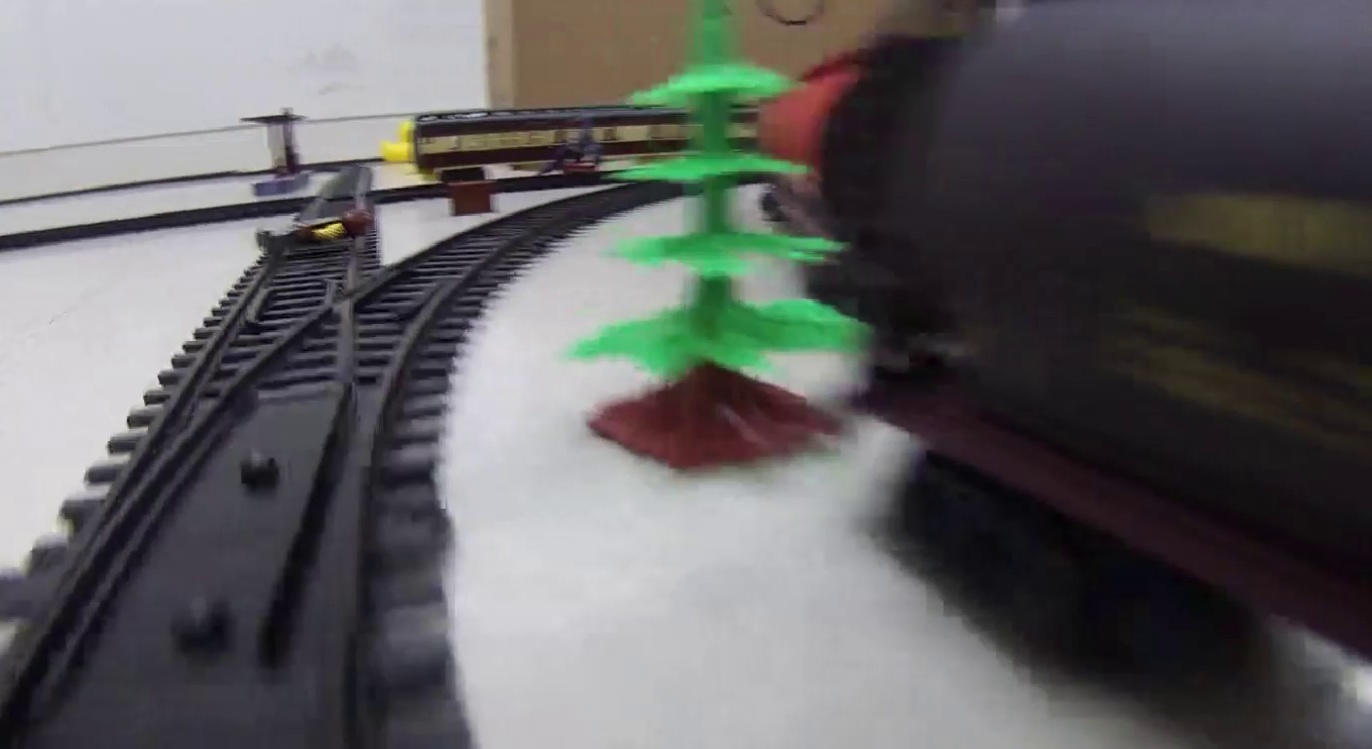tree: (576, 5, 874, 463)
